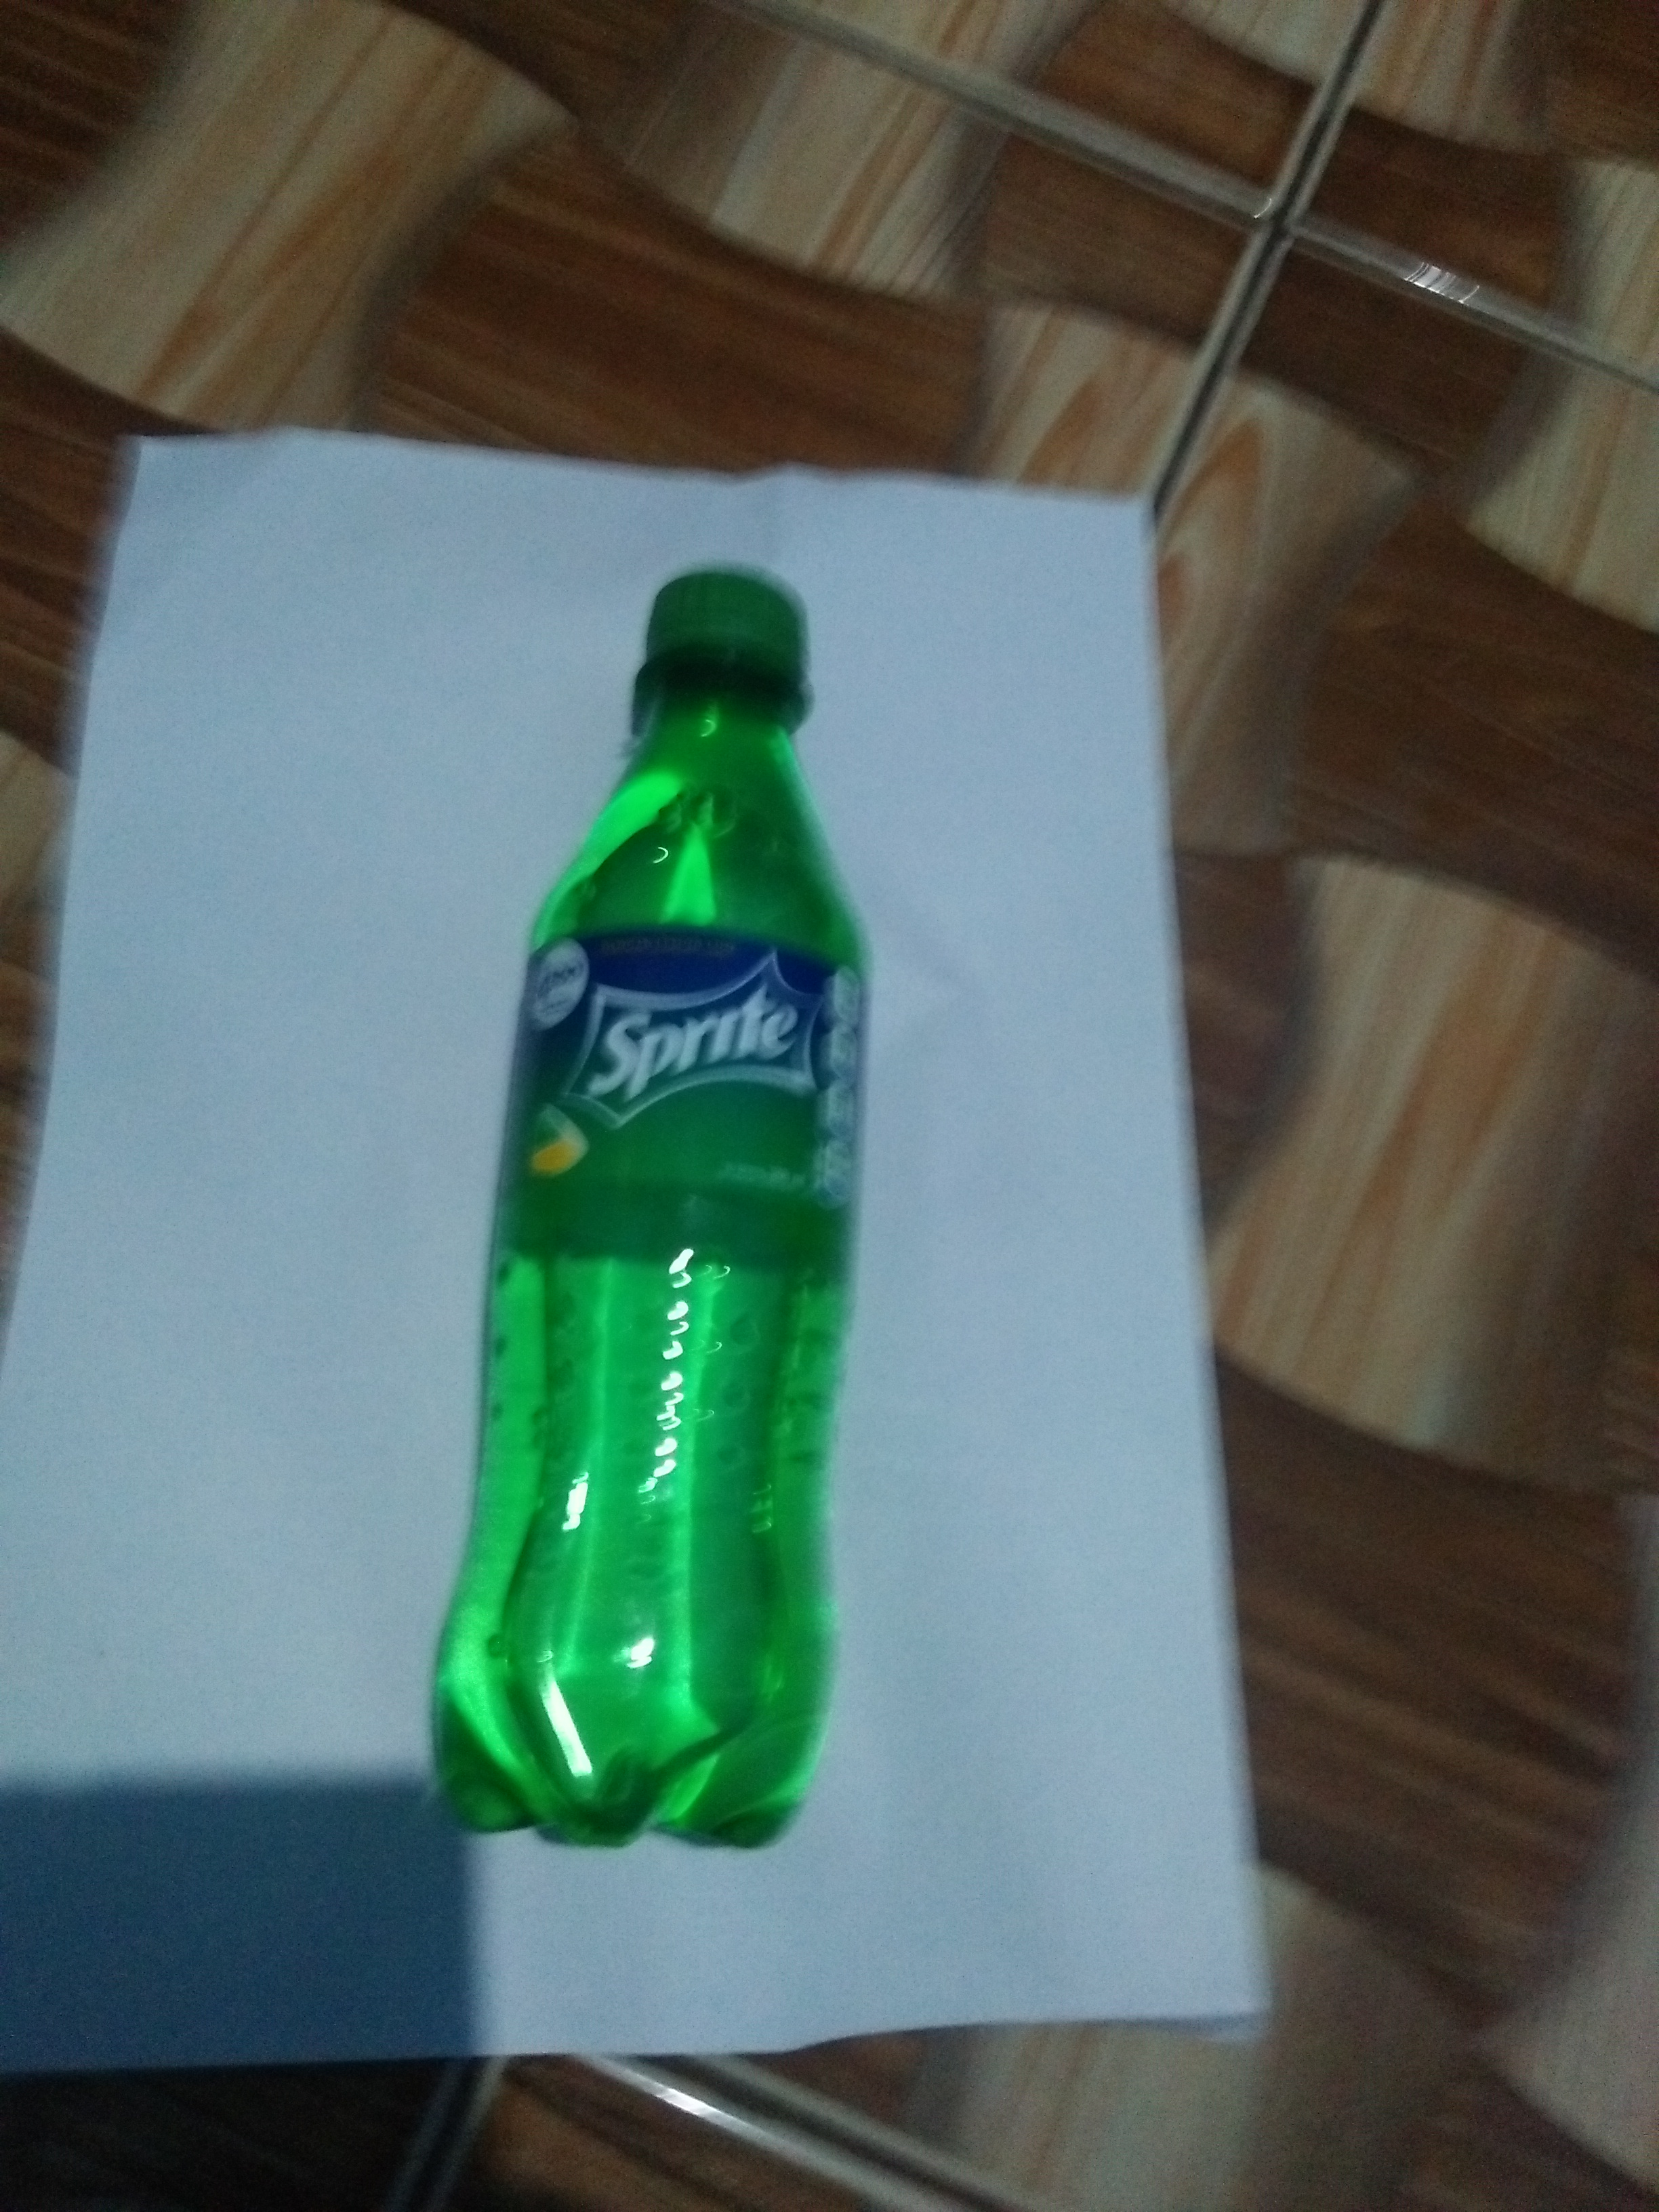Sprite: (415, 547, 908, 1879)
